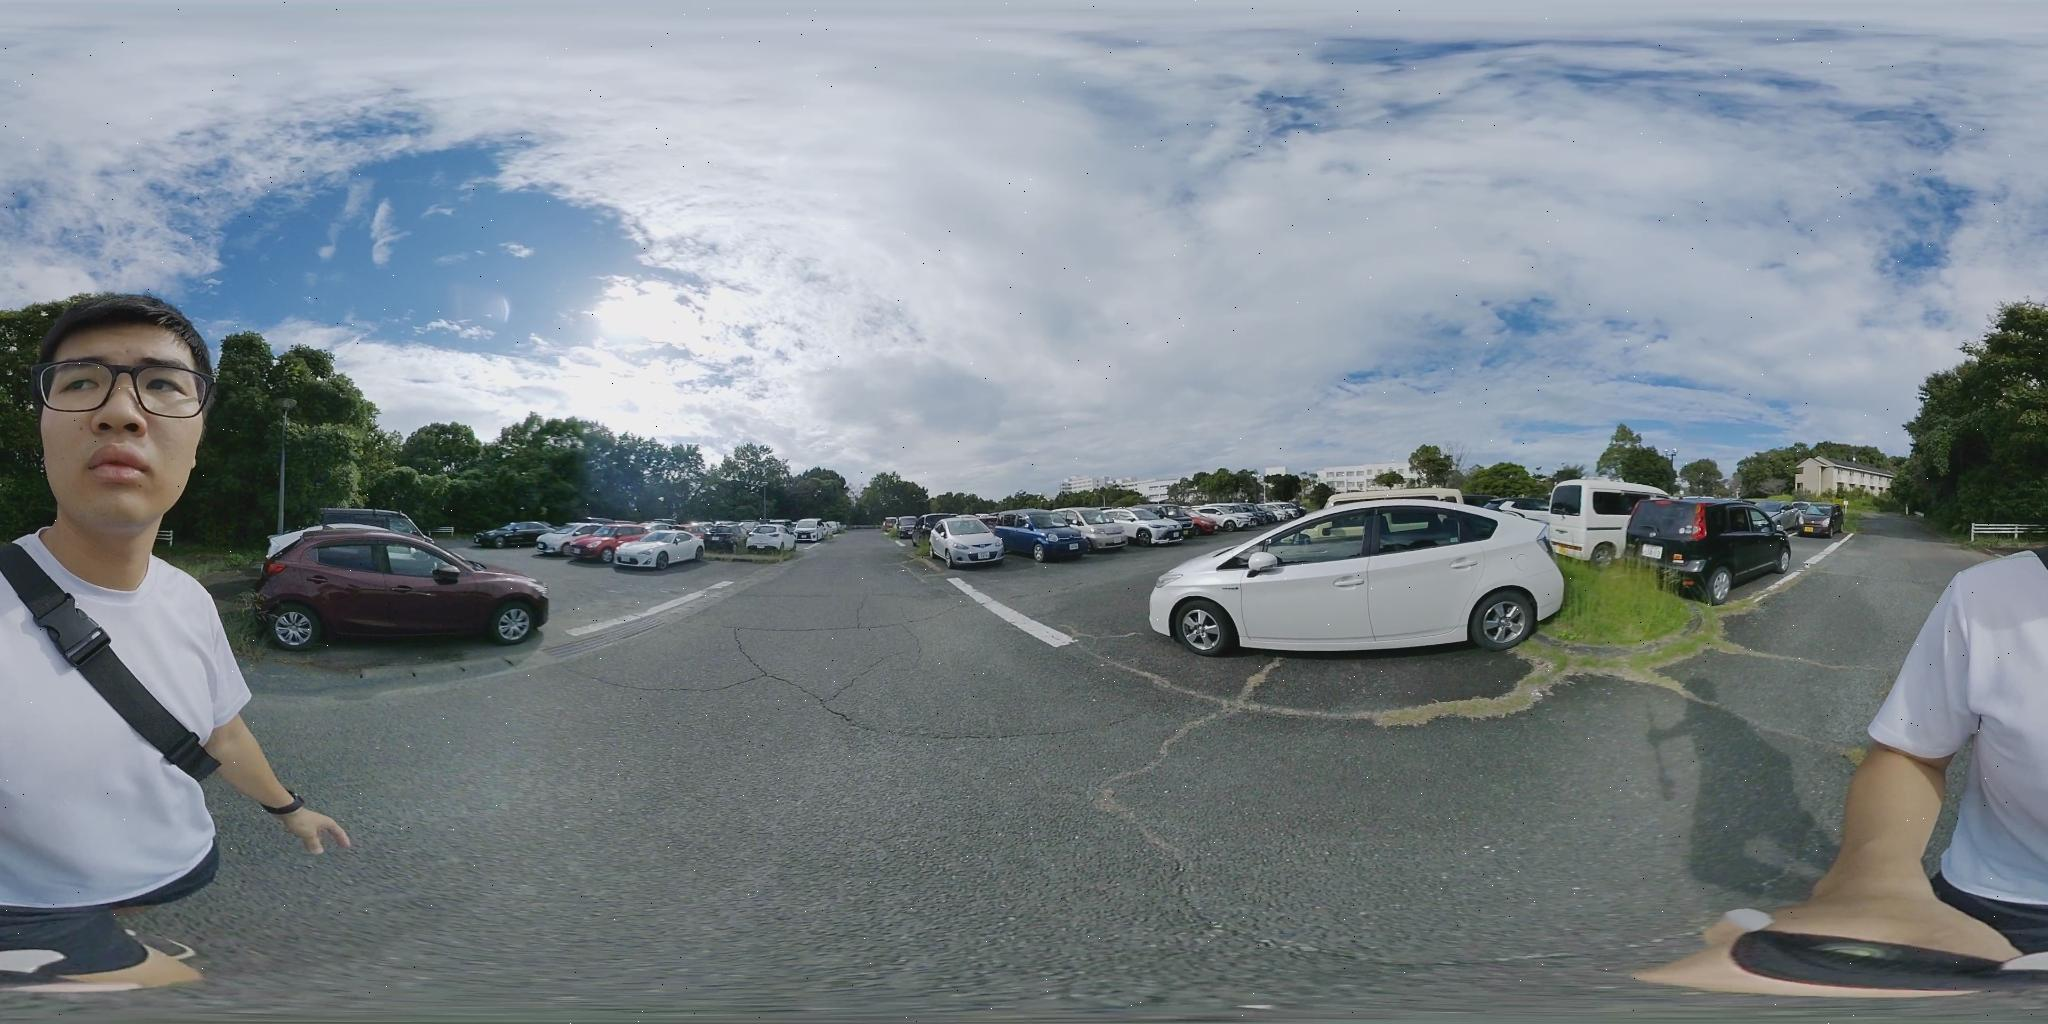car: (1153, 502, 1569, 658), (251, 533, 556, 649), (1634, 499, 1784, 586), (1550, 479, 1674, 559), (980, 513, 1095, 562), (601, 525, 708, 571), (922, 516, 1003, 568), (1084, 507, 1196, 543), (315, 509, 434, 542), (545, 521, 649, 556), (1067, 512, 1153, 550), (1763, 499, 1843, 534), (1189, 503, 1290, 530), (714, 521, 792, 550), (481, 524, 559, 549), (882, 519, 922, 543), (792, 521, 832, 545)
